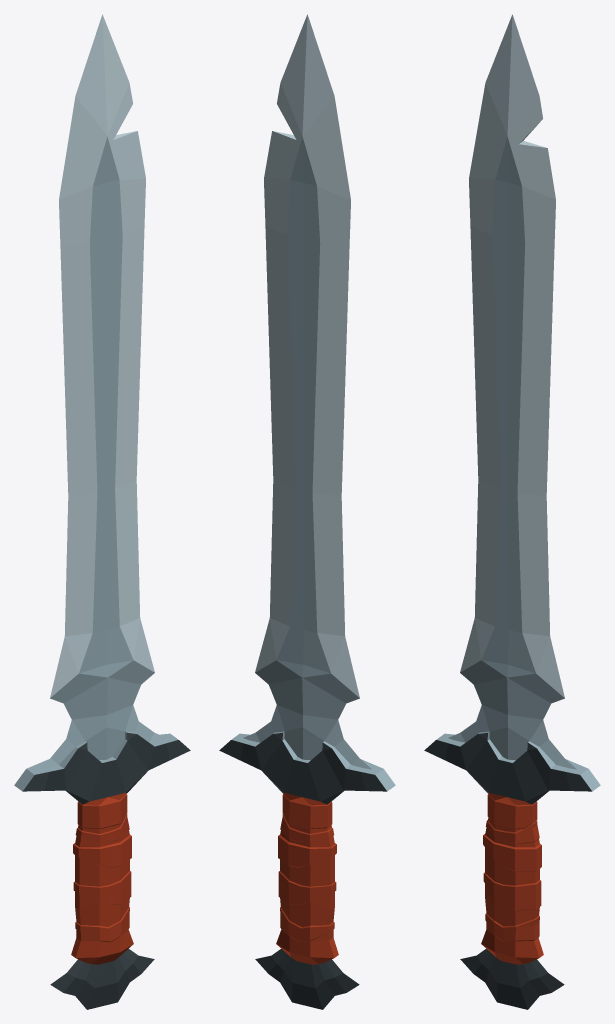
File: SwordRarityWhite_02.fbx
The picture shows the model from 3 angles, left to right: view 1: azimuth 30°, elevation 25°; view 2: azimuth 150°, elevation 25°; view 3: azimuth 330°, elevation 25°; orthographic projection.
Parts seen in each view (by area): view 1: Sword_03; view 2: Sword_03; view 3: Sword_03.
Part boxes in pixels (x1,y1,x2,y2): Sword_03: [14, 14, 190, 1009]; Sword_03: [219, 14, 395, 1009]; Sword_03: [424, 14, 600, 1009].
Bounding box in the file's own units: 22.28 × 126 × 3.87.
